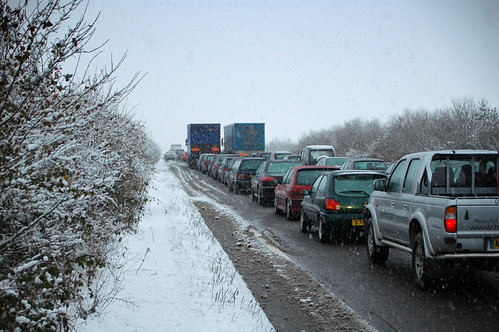car: (373, 152, 499, 282), (300, 167, 381, 240), (277, 162, 313, 217), (249, 155, 285, 210)
sky: (103, 1, 499, 114)
truck: (185, 120, 221, 157), (228, 118, 264, 155)
vegetation: (1, 78, 162, 332)
